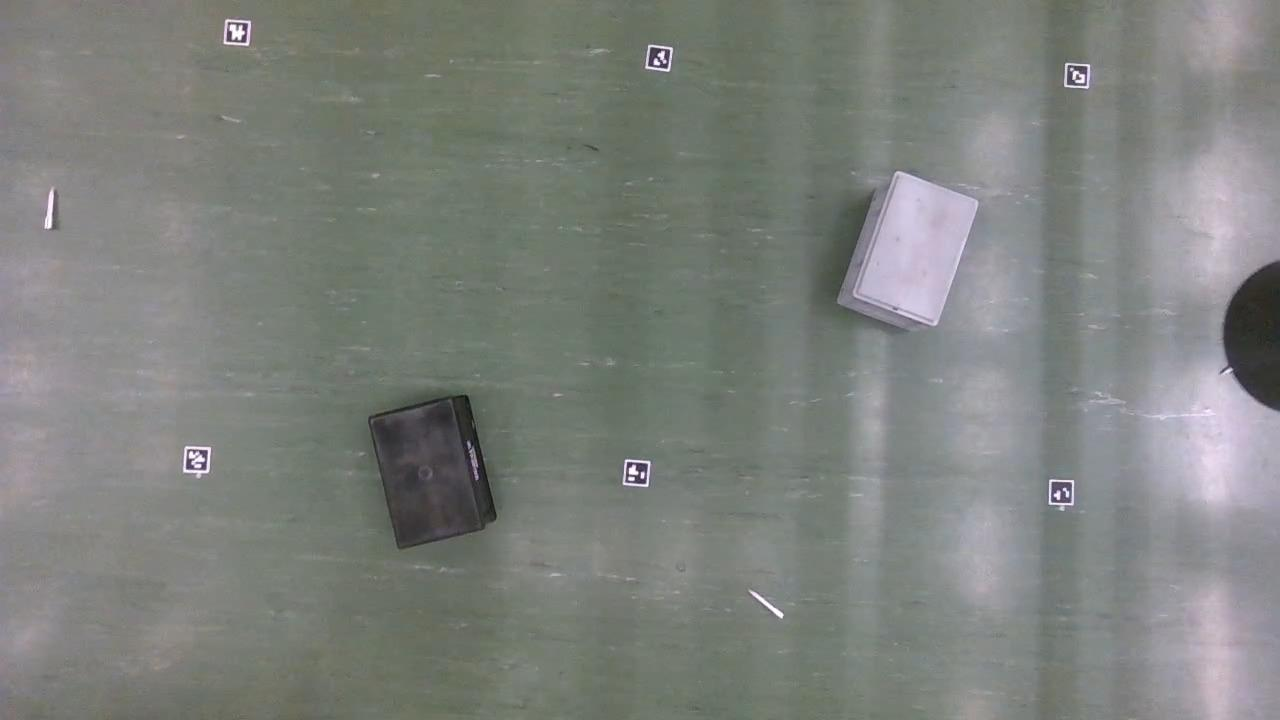probes: (751, 591, 785, 620), (44, 189, 56, 230)
rako: (835, 172, 978, 336), (369, 397, 497, 552)
